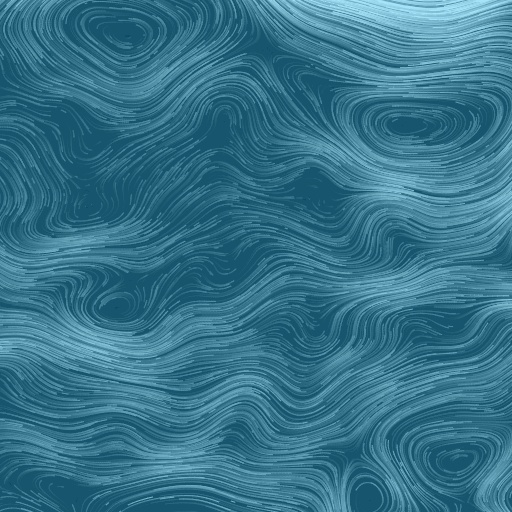eddy: (341, 91, 480, 161), (60, 4, 188, 76), (411, 427, 499, 492), (93, 288, 143, 327)
